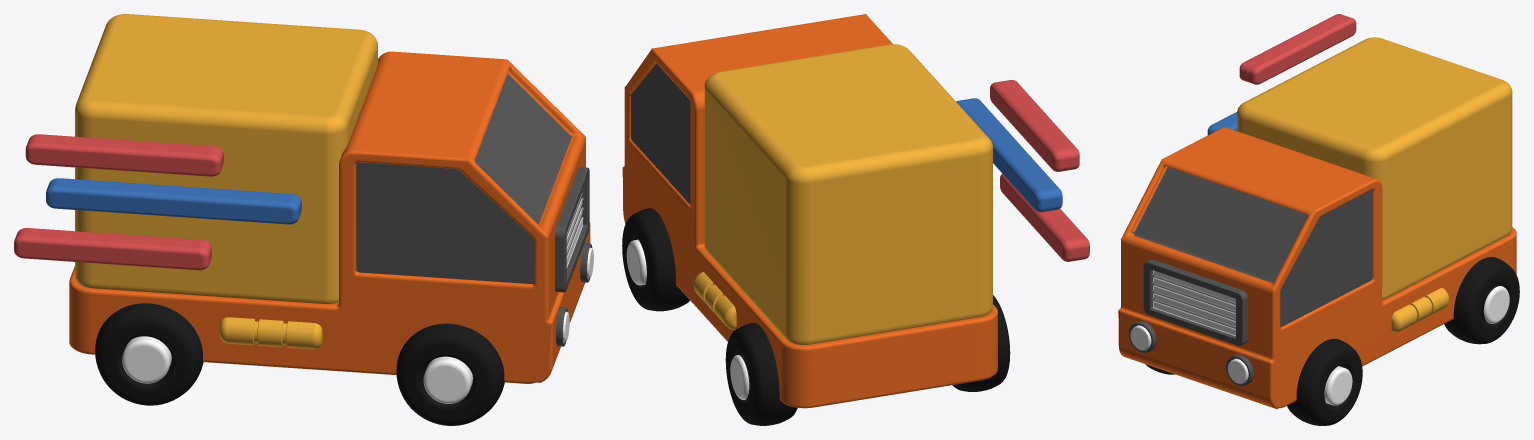
3 renders of one model, left to right at view 1: azimuth 30°, elevation 25°; view 2: azimuth 150°, elevation 25°; view 3: azimuth 270°, elevation 25°, orthographic. The views are drawn at different scales.
Visible parts, largest first — view 1: Cube006, Cube, Cube010, Cube011, Cube_1, Cylinder019_1, Cylinder018, Cube012, Cube146, Cylinder021, Cube013, Cylinder018_1 (+2 smaller); view 2: Cube006, Cube, Cube005, Cylinder023_1, Cylinder024, Cube011, Cube012, Cube146, Cylinder018, Cylinder022, Cylinder024_1, Cylinder023_2; view 3: Cube006, Cube, Cube_1, Cube005, Cylinder023_1, Cylinder024, Cube013, Cube012, Cube013_1, Cylinder022, Cylinder024_1, Cylinder023_2 (+2 smaller).
Boxes of the visible parts, box(x1,y1,x2,y2) form: Cube006: box(75, 14, 377, 303); Cube: box(69, 51, 590, 383); Cube010: box(356, 162, 534, 283); Cube011: box(46, 178, 301, 224); Cube_1: box(475, 73, 571, 224); Cylinder019_1: box(396, 323, 504, 425); Cylinder018: box(95, 303, 203, 405); Cube012: box(25, 134, 223, 176); Cube146: box(14, 228, 211, 270); Cylinder021: box(219, 317, 322, 349); Cube013: box(555, 167, 589, 292); Cylinder018_1: box(122, 336, 171, 383); Cube006: box(704, 44, 992, 344); Cube: box(622, 14, 997, 408); Cube005: box(631, 63, 690, 204); Cylinder023_1: box(725, 322, 797, 425); Cylinder024: box(622, 208, 689, 311); Cube011: box(956, 98, 1062, 212); Cube012: box(990, 80, 1079, 171); Cube146: box(1000, 173, 1089, 261); Cylinder018: box(952, 295, 1010, 391); Cylinder022: box(693, 272, 736, 329); Cylinder024_1: box(626, 239, 646, 285); Cylinder023_2: box(730, 355, 749, 399); Cube006: box(1237, 37, 1512, 299); Cube: box(1118, 127, 1516, 409); Cube_1: box(1132, 167, 1307, 283); Cube005: box(1280, 190, 1372, 327); Cylinder023_1: box(1444, 257, 1519, 344); Cylinder024: box(1287, 338, 1362, 425); Cube013: box(1143, 259, 1247, 345); Cube012: box(1239, 14, 1356, 84); Cube013_1: box(1152, 270, 1235, 336); Cylinder022: box(1391, 288, 1449, 332); Cylinder024_1: box(1324, 366, 1352, 405); Cylinder023_2: box(1483, 286, 1509, 323).
Bounding box in the file's own units: 6.05 × 3.15 × 4.84.
